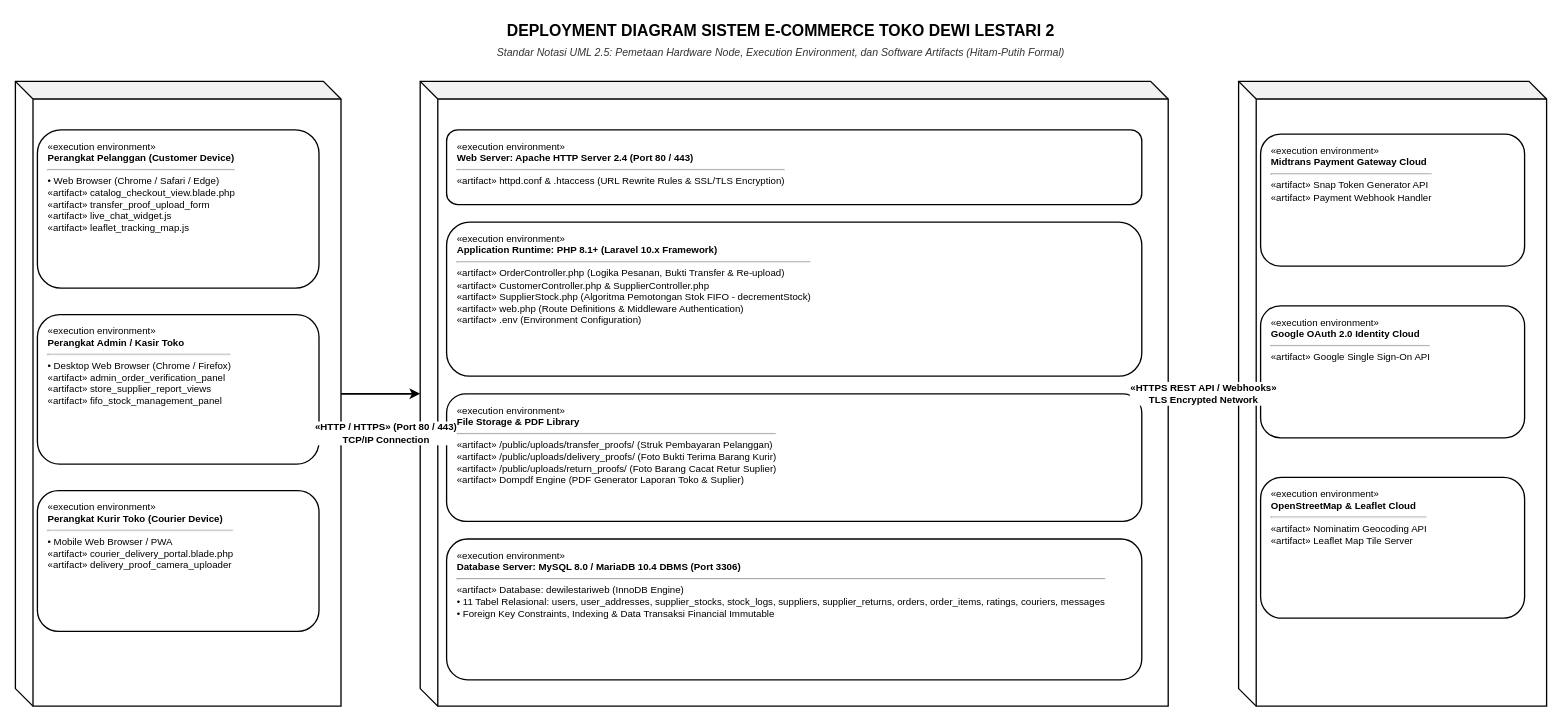
The diagram is 1563 pixels wide and 722 high, and some of its shapes have lost their labels. The shapes that lost their labels are listed below. From the top down, each one's box as (x1, y1, x2, y2) in pixels, then its label:
(14, 80, 341, 706): «device» Perangkat Pengguna (Client Tier)
(419, 80, 1168, 706): «device» Server Host PC (Localhost XAMPP / Web Server Hosting)
(1238, 80, 1547, 706): «cloud node» Layanan Eksternal (Third-Party Cloud APIs)
